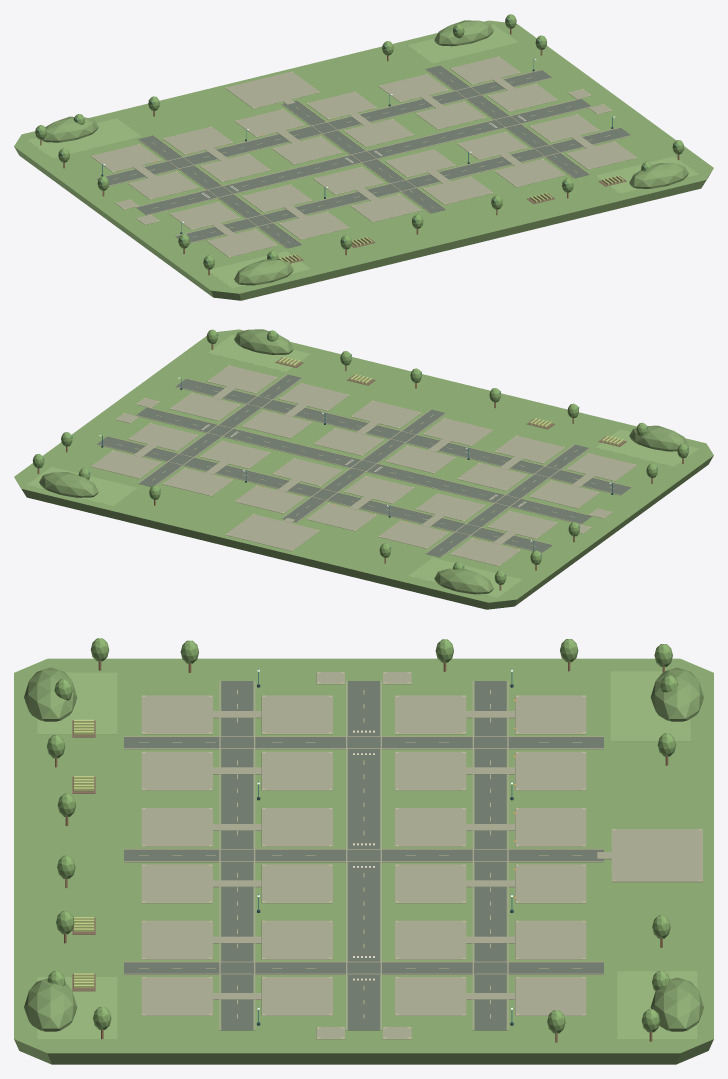
File: ground.glb
3 renders of one model, top to bottom at view 1: azimuth 30°, elevation 25°; view 2: azimuth 150°, elevation 25°; view 3: azimuth 270°, elevation 25°, orthographic. The views are drawn at different scales.
Parts seen in each view (by area): view 1: planet_agrar__Terrain, planet_agrar__Roads, planet_agrar__Decoration; view 2: planet_agrar__Terrain, planet_agrar__Roads, planet_agrar__Decoration; view 3: planet_agrar__Terrain, planet_agrar__Roads, planet_agrar__Decoration.
Boxes of the visible parts, x1,y1,x2,y2 form: planet_agrar__Terrain: (14, 20, 713, 300); planet_agrar__Roads: (91, 56, 637, 257); planet_agrar__Decoration: (35, 14, 688, 285); planet_agrar__Terrain: (14, 329, 713, 609); planet_agrar__Roads: (90, 365, 636, 566); planet_agrar__Decoration: (32, 329, 688, 594); planet_agrar__Terrain: (14, 658, 713, 1064); planet_agrar__Roads: (124, 672, 702, 1039); planet_agrar__Decoration: (24, 638, 703, 1042).
Size of the model in its own units: 140 by 8.08 by 105.
